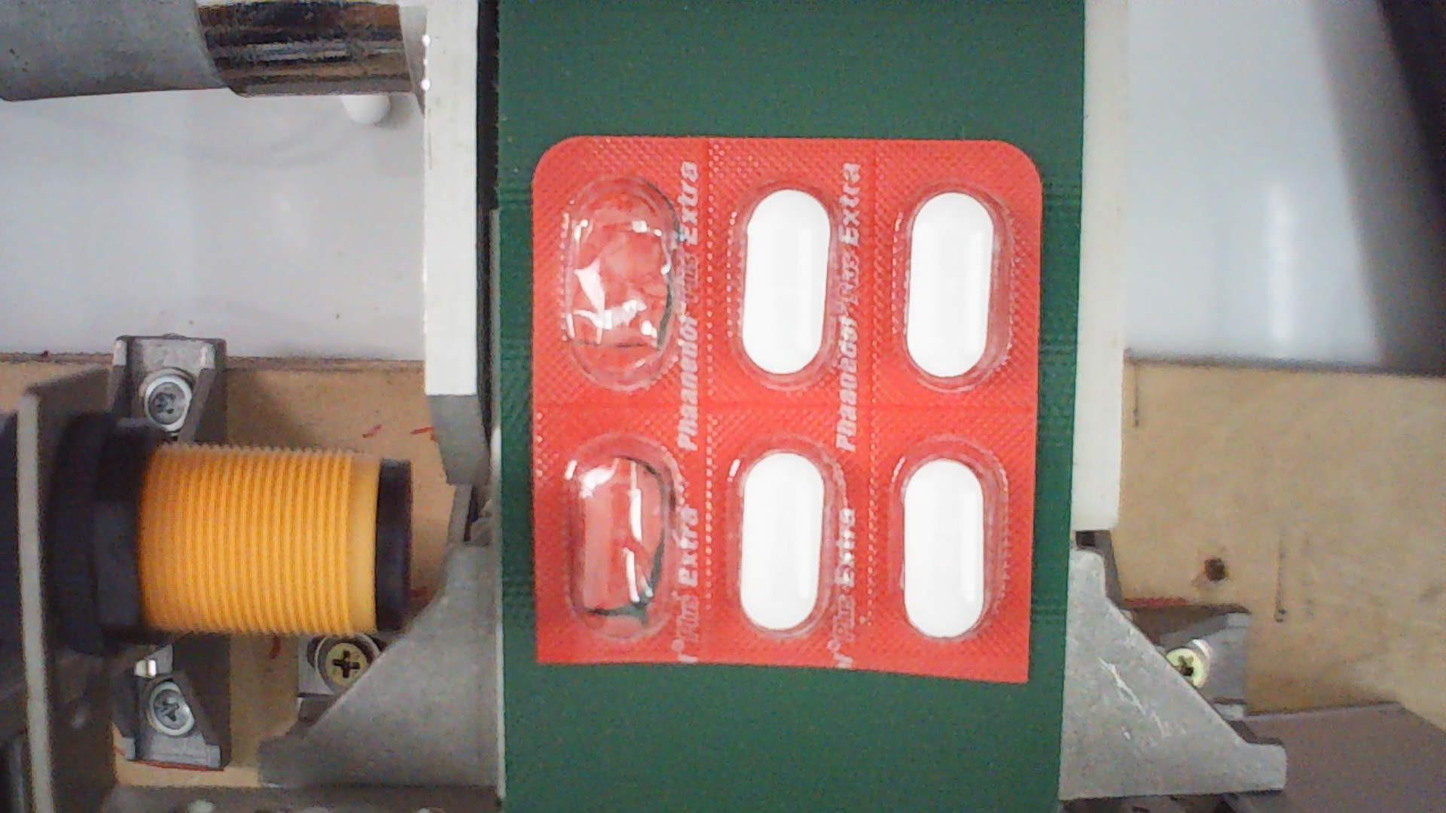Empty: (558, 167, 689, 388), (557, 426, 686, 646)
Full: (892, 183, 1011, 387), (723, 437, 842, 640), (887, 447, 1006, 650), (732, 182, 851, 385)
